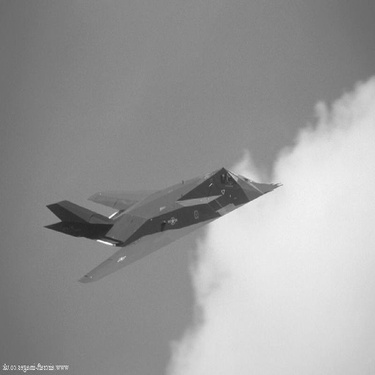airplane: (36, 157, 294, 288)
